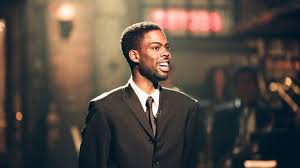black_male: (136, 23, 171, 87)
